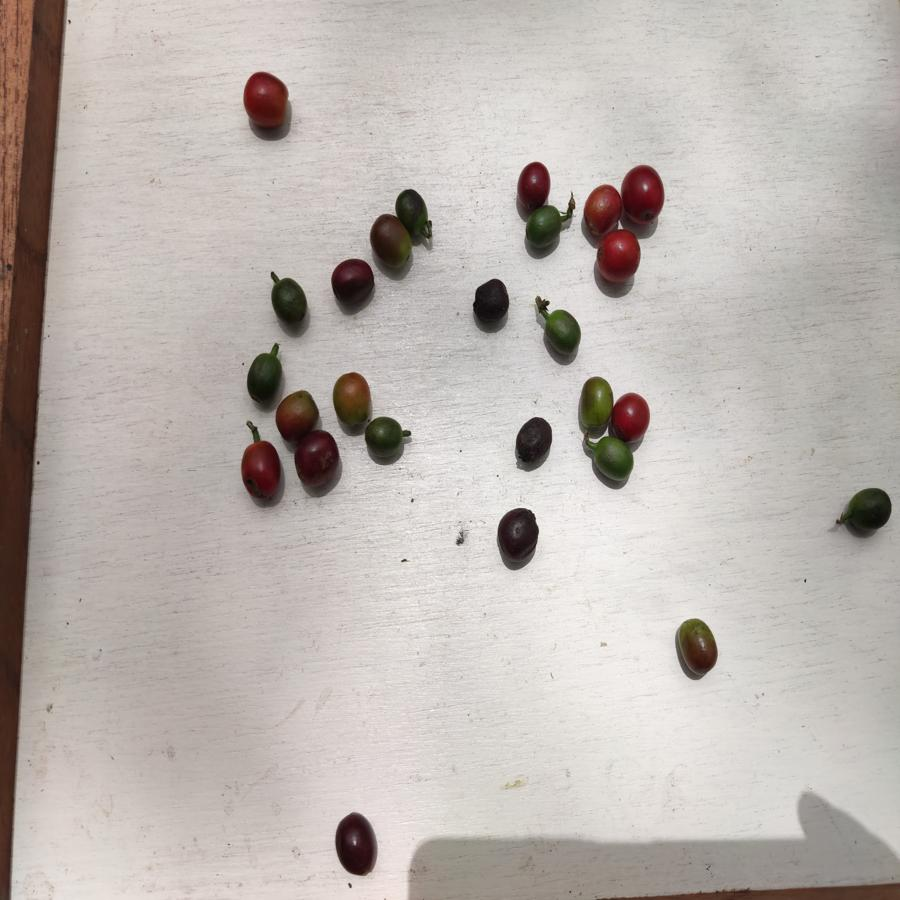Inmaduro: (844, 487, 893, 534), (538, 308, 583, 358), (267, 278, 310, 323), (245, 352, 280, 407), (590, 438, 631, 484), (525, 206, 565, 251), (393, 189, 430, 237), (363, 414, 404, 457)
Maduro: (241, 72, 290, 133), (622, 162, 665, 227), (238, 438, 283, 500), (594, 229, 641, 283), (580, 182, 620, 235), (611, 391, 650, 444)
Pinton: (365, 214, 413, 273), (674, 617, 718, 680), (333, 369, 371, 429), (577, 373, 614, 429), (276, 388, 320, 435)
Sobremaduro: (330, 807, 379, 880), (295, 431, 338, 487), (495, 507, 538, 562), (331, 255, 375, 308), (513, 417, 554, 466), (471, 277, 510, 327), (514, 160, 552, 205)
